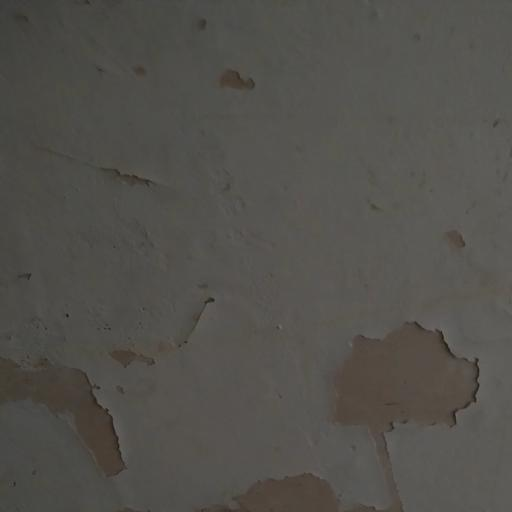peeling: (323, 306, 512, 512), (0, 322, 148, 482), (195, 454, 395, 512), (145, 274, 242, 365), (86, 144, 164, 201), (192, 64, 268, 113), (185, 11, 218, 42), (124, 54, 148, 81)
